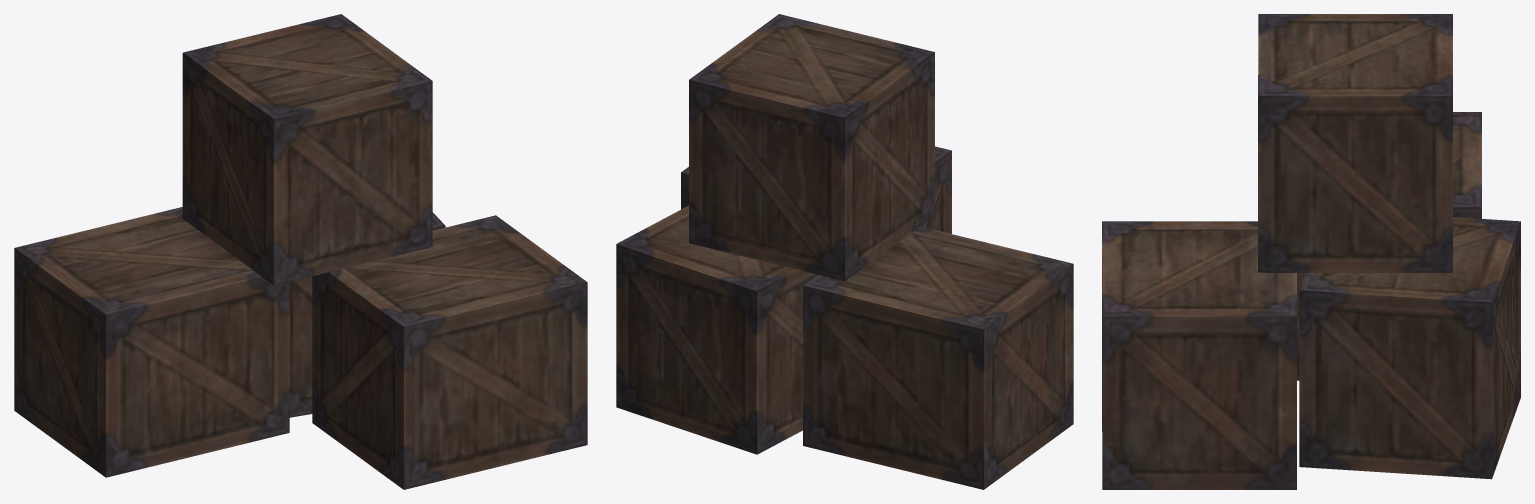
Rendered from xiaozhawu01_02.FBX.
3 views of the same model, side by side, from view 1: azimuth 30°, elevation 25°; view 2: azimuth 150°, elevation 25°; view 3: azimuth 270°, elevation 25° (orthographic). The views are drawn at different scales.
Parts seen in each view (by area): view 1: xiaozhawu01_02; view 2: xiaozhawu01_02; view 3: xiaozhawu01_02.
Boxes of the visible parts, <box> form: xiaozhawu01_02: <box>14,14,587,489</box>; xiaozhawu01_02: <box>616,14,1073,489</box>; xiaozhawu01_02: <box>1102,14,1520,489</box>.
Bounding box in the file's own units: 93.6 × 75.41 × 80.84.
Materials: 1 (1 with a texture image).
